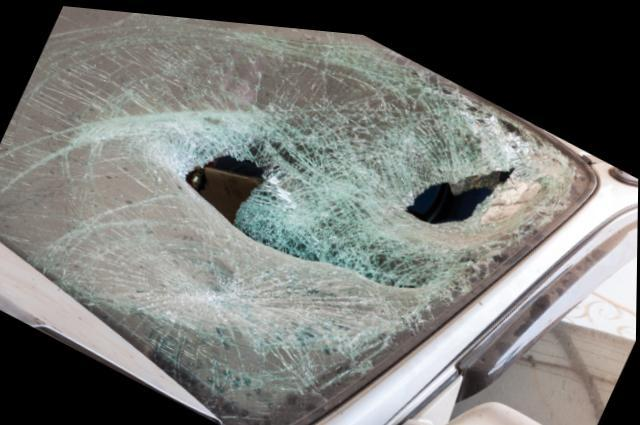glass shatter: (0, 5, 588, 425)
